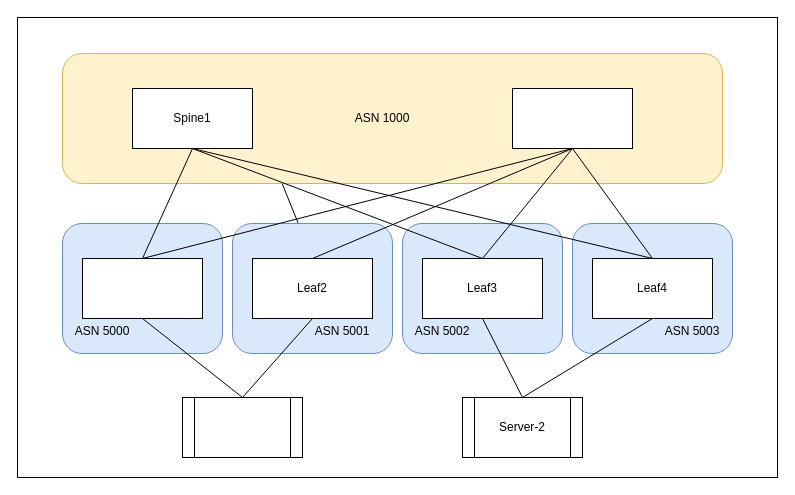
Some shapes in this 795 by 495 pixel diagram are drawn without their labels. The centre of each missing label's shape, as x and y in pixels:
Leaf1: pixel 142 288
Server-1: pixel 242 427
Spine2: pixel 572 118
